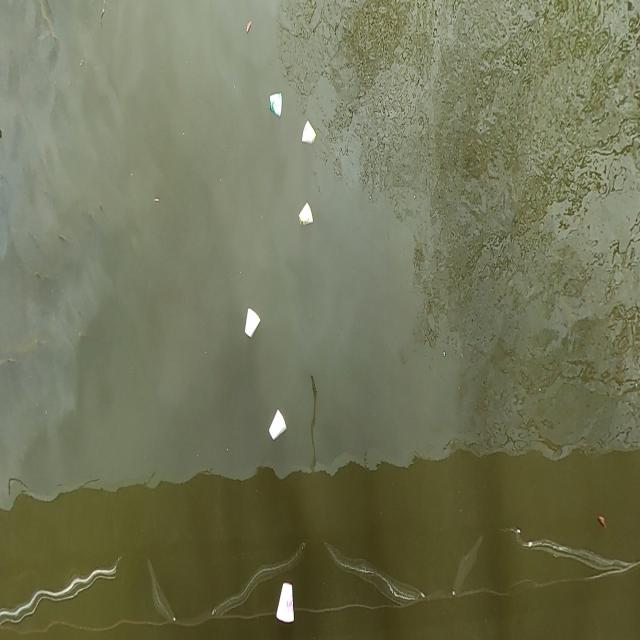Non plastique: (273, 577, 298, 630), (262, 402, 292, 443), (242, 305, 264, 344), (267, 92, 290, 121), (298, 203, 318, 235), (301, 118, 318, 151)
